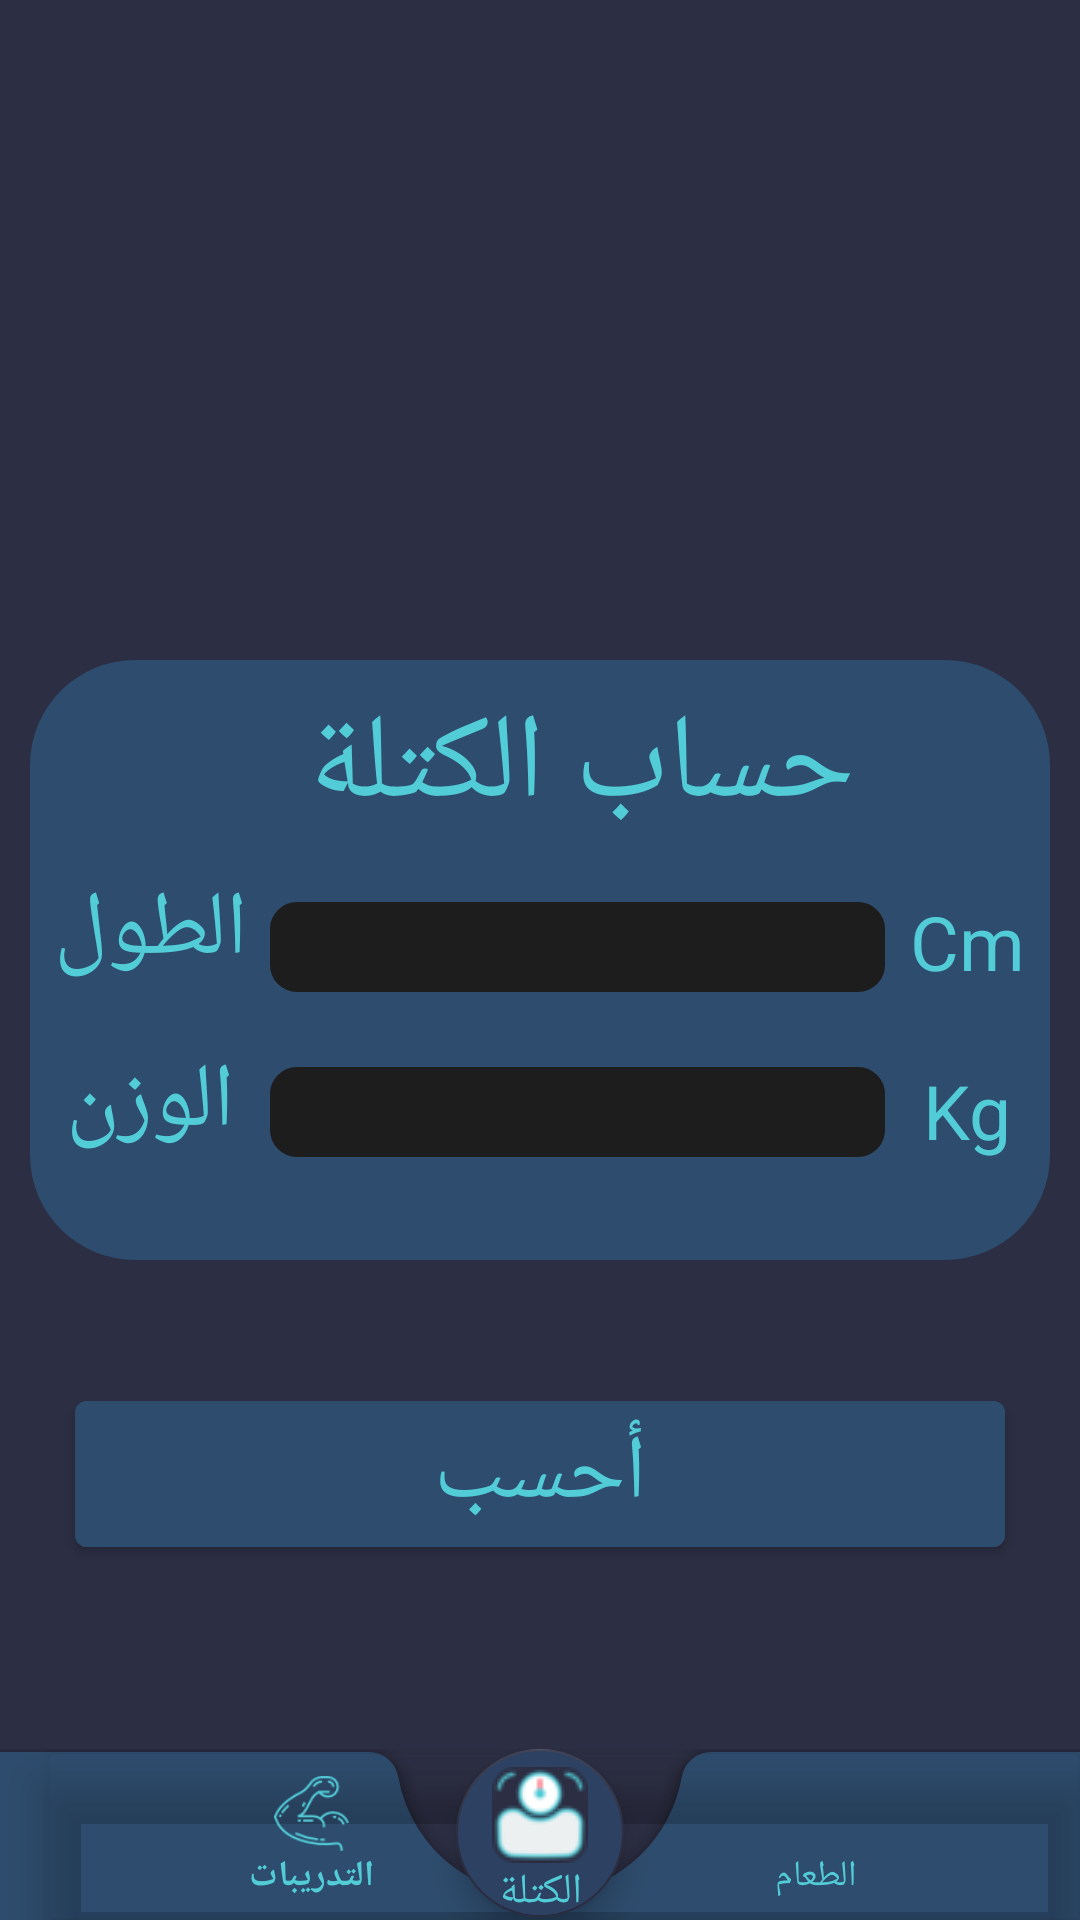

Named icons in this screenshot (1080px×1920px) and their bounding boxes, (x1, y1, x2, y2):
scales: (492, 1767, 588, 1863)
